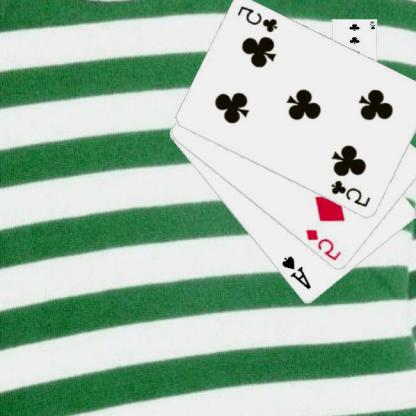5C: (236, 3, 281, 35), (330, 178, 374, 210)
5D: (305, 226, 345, 262)
AS: (280, 254, 314, 291)
